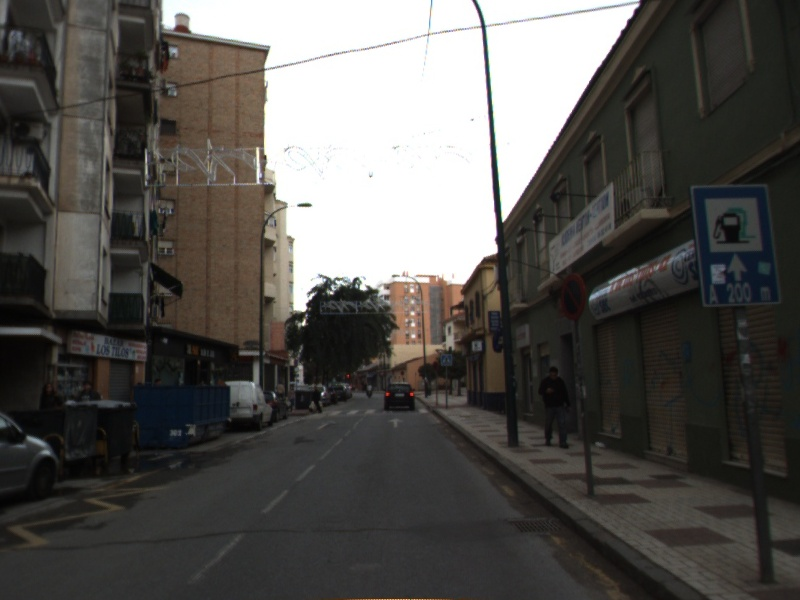STRAIGHT: (314, 418, 339, 432), (386, 416, 406, 430)
